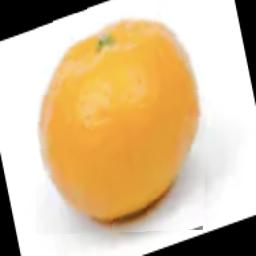Orange Fresh: (36, 0, 212, 234)
